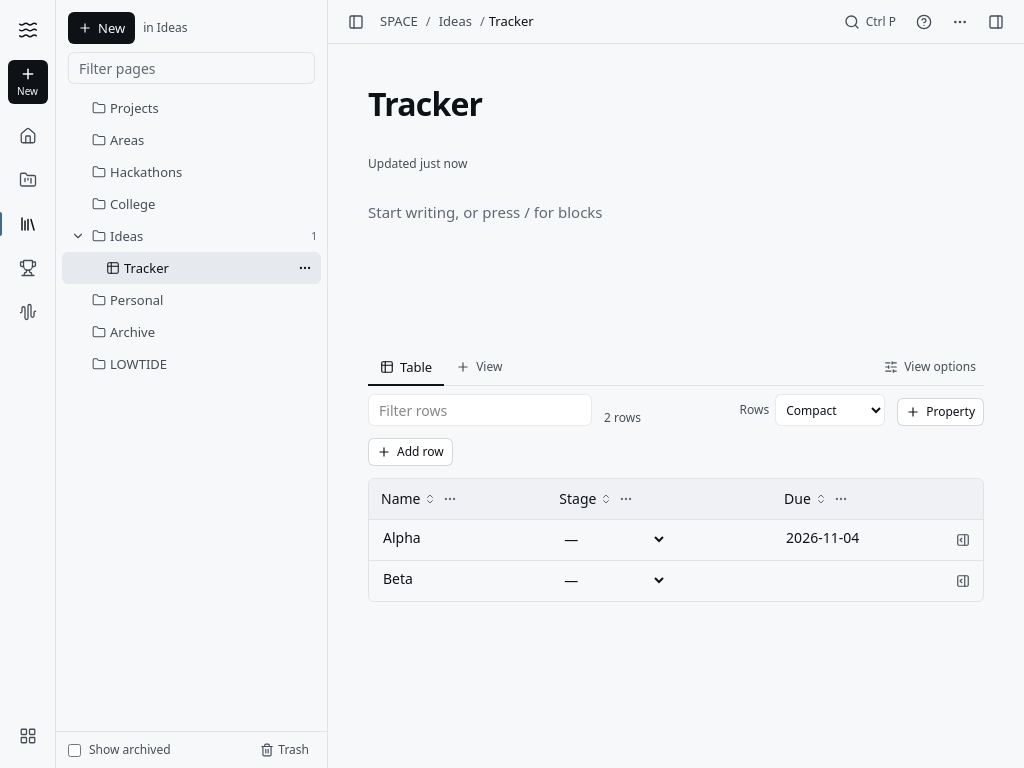
Test: SPACE databases (v2.1) › places rows on a calendar by their date, and lists undated ones
This screenshot has width=1024, height=768.
Expected: the element named "Views" is shown, x1=368 y1=350 x2=444 y2=385
Click the button "View": (479,367) x1=448 y1=353 x2=510 y2=381
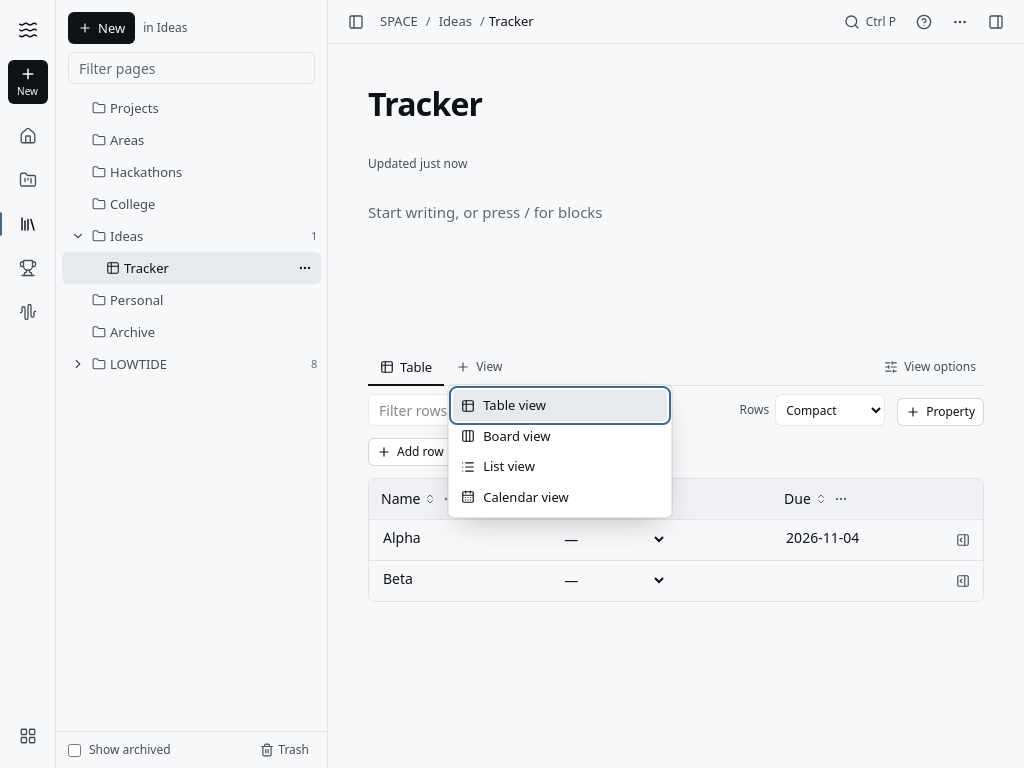
Click the menu item "Calendar view": (560,497) x1=453 y1=482 x2=667 y2=513
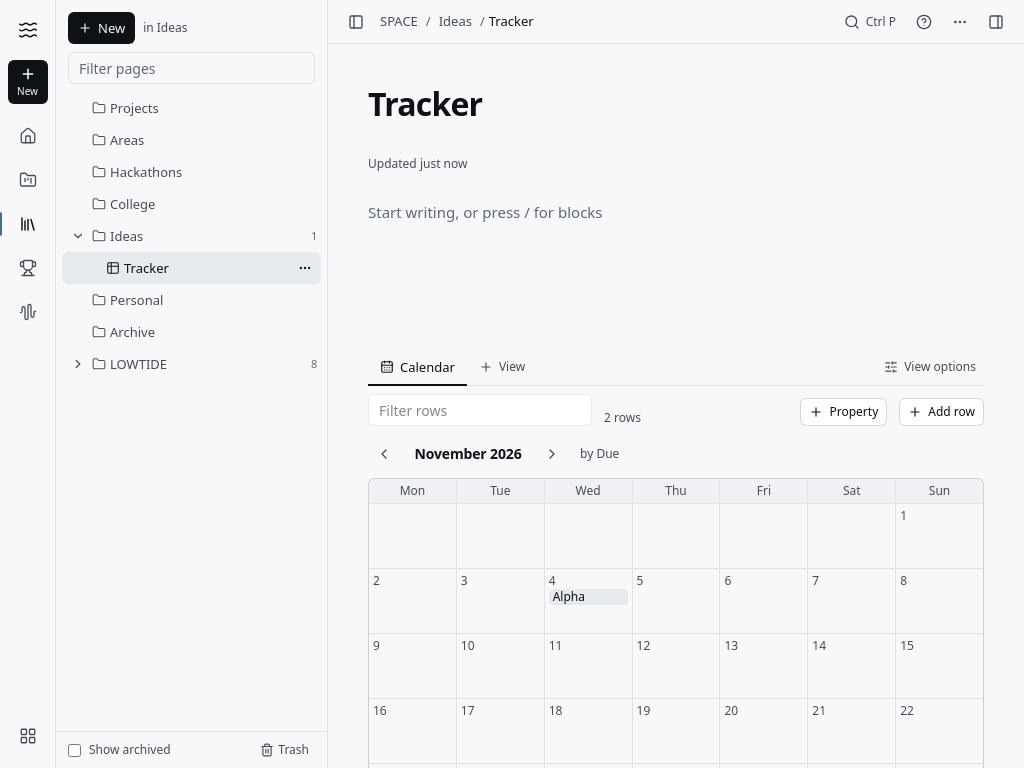
Expected: the button "Alpha" is shown, x1=549 y1=589 x2=628 y2=605
Now the heading "November 2026" is shown, box x1=414 y1=444 x2=522 y2=463
Click the button named "Next month": (552,454) x1=536 y1=438 x2=568 y2=470
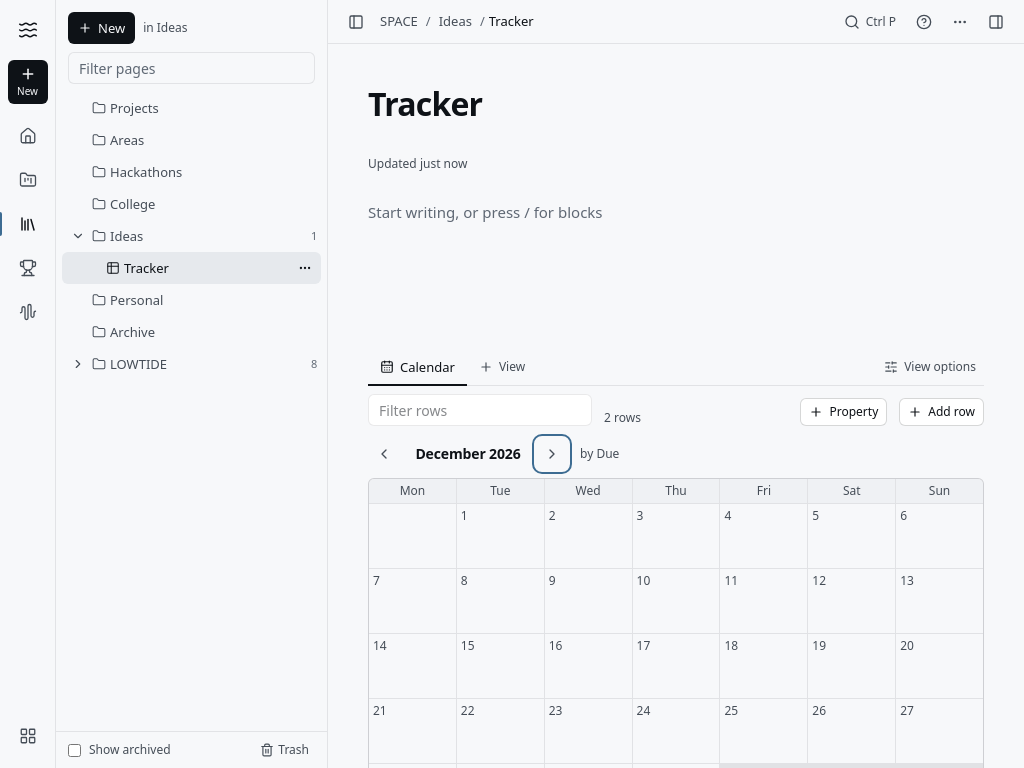
Now the heading "December 2026" is shown, box x1=415 y1=444 x2=521 y2=463
